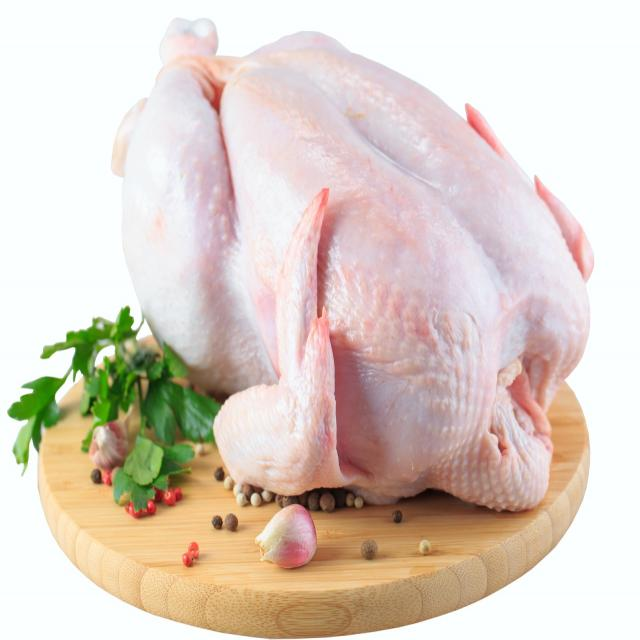chicken: (108, 17, 588, 510)
